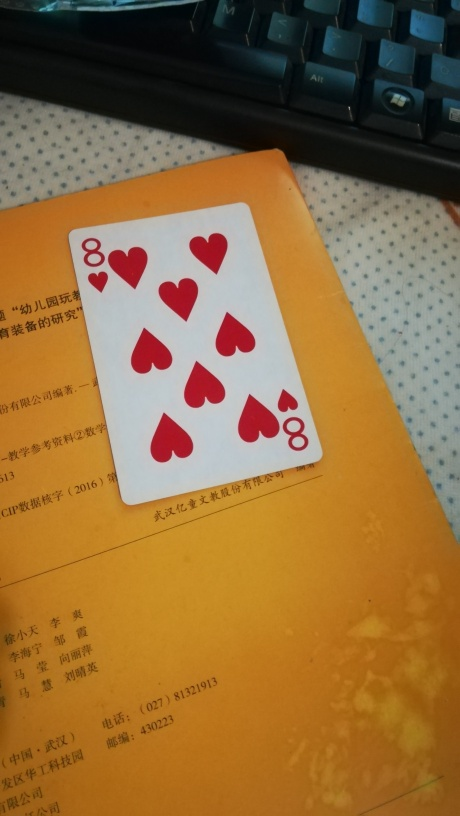hx 8: (66, 202, 323, 505)
